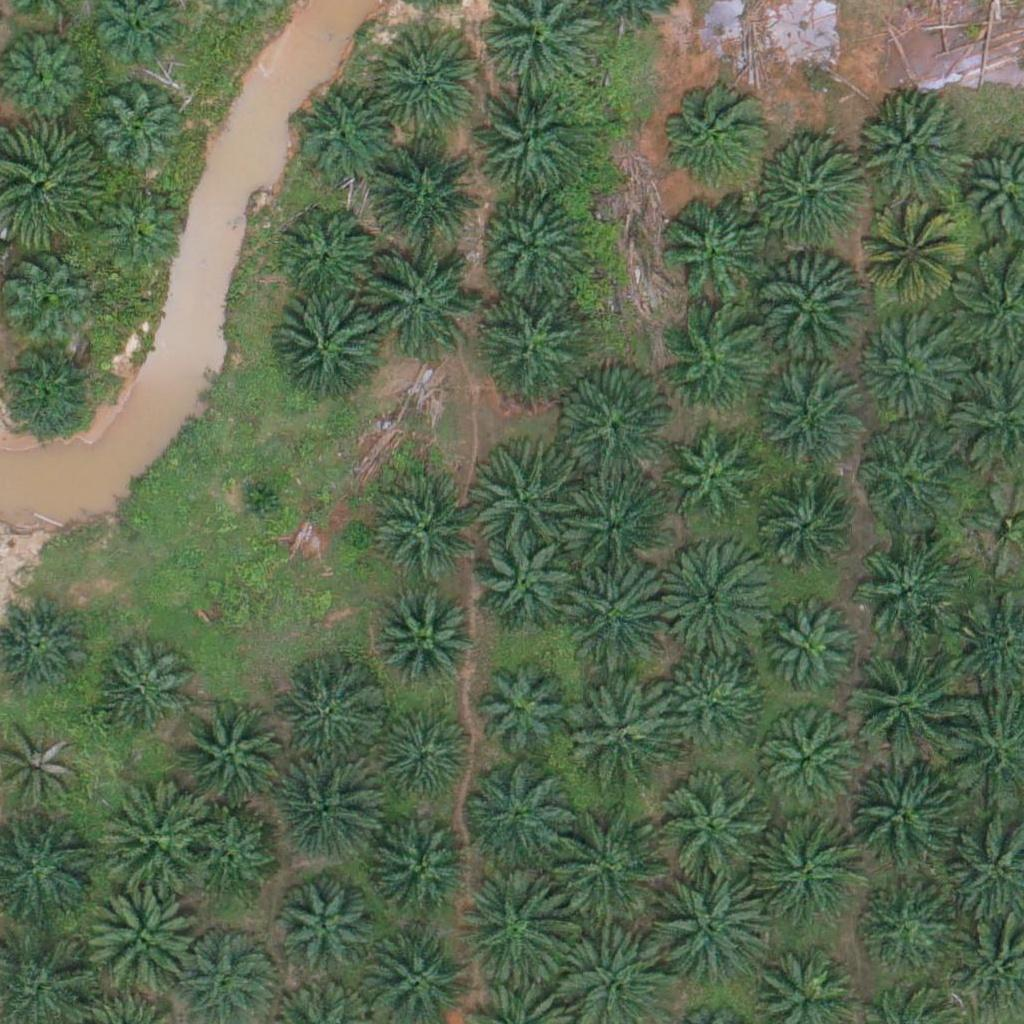Kelapa_Sawit: (847, 757, 960, 871), (654, 541, 767, 655), (563, 557, 676, 671), (454, 874, 567, 988), (480, 184, 593, 298), (471, 89, 584, 203), (369, 25, 482, 139), (846, 651, 959, 764), (755, 257, 868, 370), (749, 815, 862, 928), (657, 199, 770, 312), (659, 776, 772, 889), (568, 675, 681, 788), (268, 296, 381, 409), (269, 754, 382, 867), (660, 304, 772, 418), (461, 758, 573, 872), (658, 76, 770, 190), (368, 133, 480, 247), (852, 530, 964, 643), (661, 873, 773, 986), (561, 379, 673, 492), (550, 808, 662, 921), (472, 287, 584, 400), (472, 435, 584, 548), (360, 244, 472, 357), (174, 698, 286, 811), (97, 781, 209, 894), (84, 879, 196, 992), (854, 95, 966, 208), (744, 139, 856, 252), (853, 316, 953, 417), (855, 428, 955, 529), (859, 881, 959, 982), (761, 373, 861, 474), (756, 713, 856, 814), (662, 428, 762, 529), (473, 663, 573, 764), (474, 533, 574, 634), (275, 206, 375, 307), (275, 884, 375, 985), (90, 639, 190, 740), (294, 86, 394, 187), (859, 210, 959, 310), (753, 487, 853, 587), (664, 660, 764, 760), (564, 476, 664, 576), (375, 484, 475, 584), (376, 593, 476, 693), (376, 709, 476, 809), (372, 825, 472, 925), (278, 669, 378, 769), (766, 607, 854, 696), (186, 812, 274, 900), (97, 183, 185, 271), (95, 91, 182, 179), (233, 471, 283, 522)
